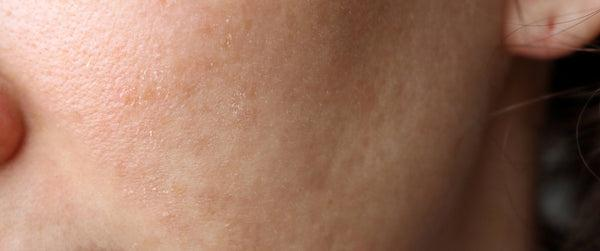Dry-Skin: (59, 37, 338, 200)
